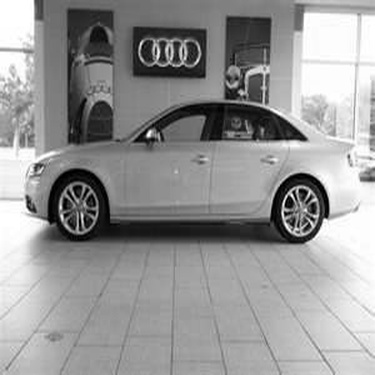car: (15, 95, 368, 248)
